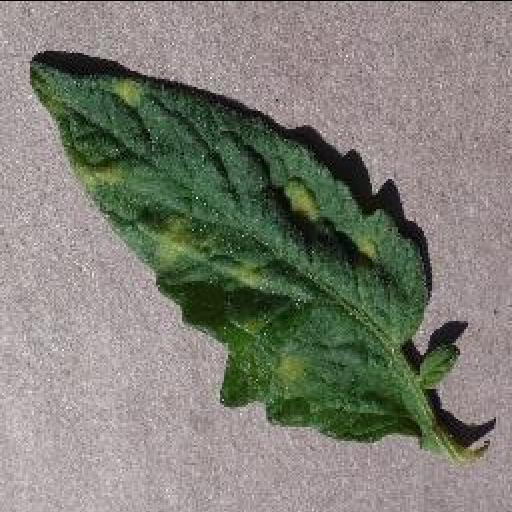disease_tomato: (28, 54, 430, 444)
